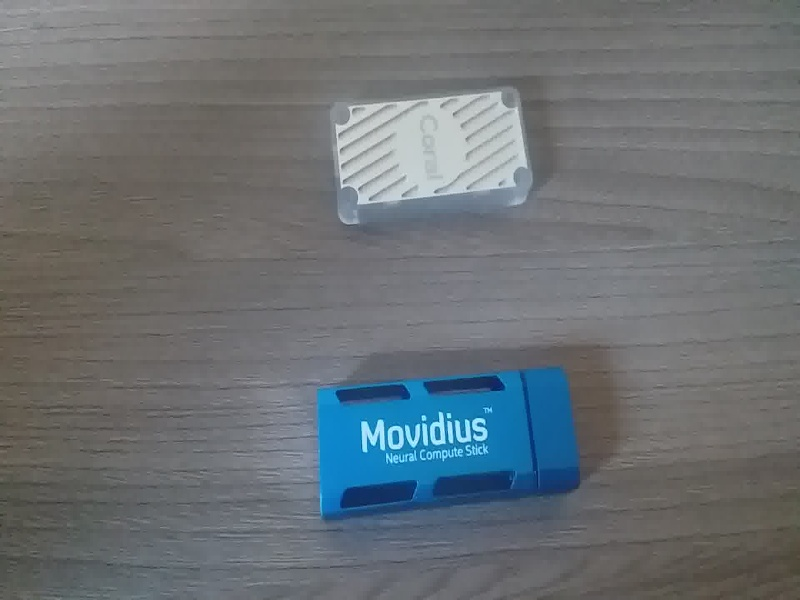coral: (312, 81, 545, 235)
movidius: (299, 366, 602, 521)
